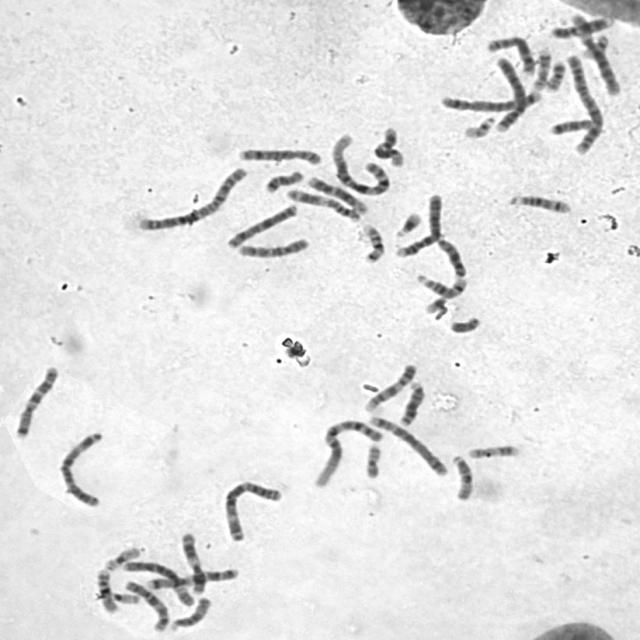A1: (308, 416, 386, 489), (327, 130, 393, 196)
A2: (133, 164, 250, 232), (563, 50, 606, 157)
A3: (222, 477, 284, 544), (54, 428, 105, 508)
B4: (392, 190, 446, 260), (490, 54, 527, 134)
B5: (364, 410, 452, 478), (437, 86, 546, 114)
C10: (121, 576, 172, 633), (234, 234, 312, 260)
C11: (282, 185, 363, 222), (177, 528, 206, 594)
C12: (304, 173, 370, 215), (370, 124, 406, 167)
C6: (567, 9, 622, 96), (120, 558, 196, 608)
C7: (10, 361, 61, 440), (142, 565, 242, 591)
C8: (483, 33, 538, 78), (235, 144, 323, 166)
C9: (360, 361, 420, 413), (548, 13, 615, 40)
D13: (396, 378, 428, 427), (434, 234, 468, 279)
D14: (504, 191, 573, 216), (412, 271, 470, 299)
D15: (167, 594, 214, 632), (448, 452, 476, 502)
E16: (92, 566, 120, 614), (359, 222, 387, 264)
E17: (527, 44, 553, 92), (464, 441, 521, 460)
E18: (260, 167, 306, 194), (547, 116, 594, 136)
F19: (100, 543, 144, 572), (105, 588, 141, 606)
F20: (542, 57, 568, 93), (361, 440, 384, 480)
G21: (392, 208, 423, 239), (421, 293, 450, 316)
G22: (460, 112, 498, 140), (578, 31, 611, 59)
X: (223, 200, 300, 250)
Y: (447, 313, 482, 335)
